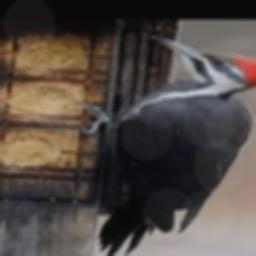Woodpecker: (79, 35, 256, 256)
